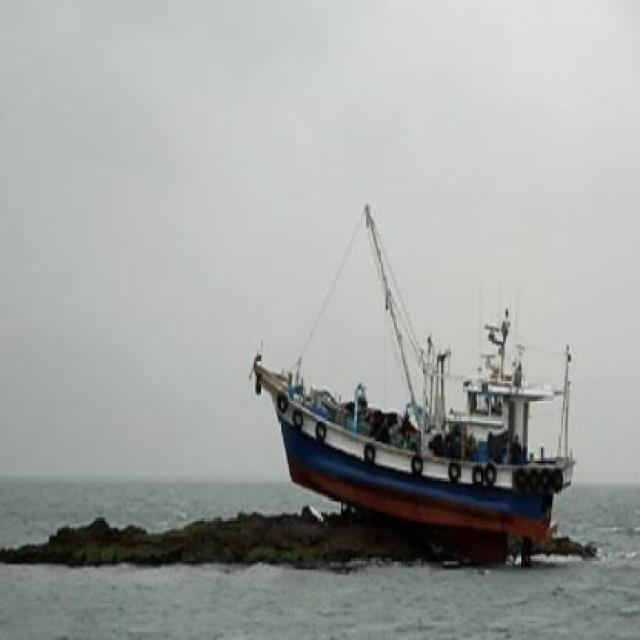fish-b: (249, 173, 589, 587)
